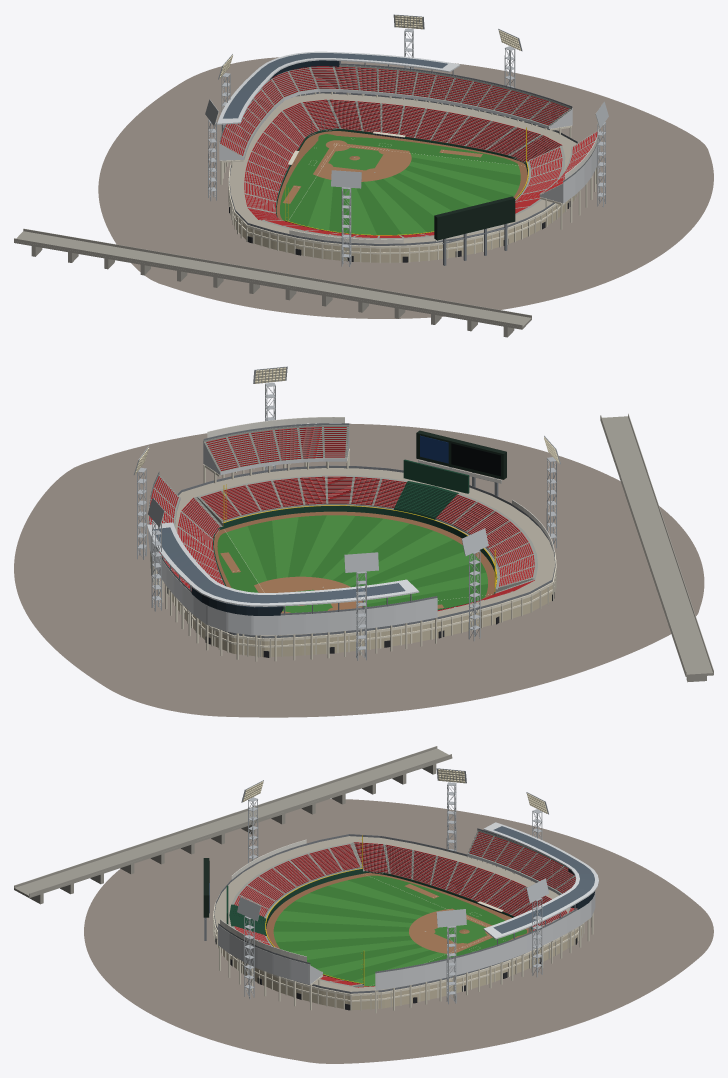
File: hiroshima.obj
The picture shows the model from 3 angles, top to bottom: view 1: azimuth 30°, elevation 25°; view 2: azimuth 150°, elevation 25°; view 3: azimuth 270°, elevation 25°; orthographic projection. The views are drawn at different scales.
Parts seen in each view (by area): view 1: ground_apron, stand_first, railway_viaduct, turf_base, stand_backstop, turf_stripes, stand_outfield_right, concourse, light_towers, stand_third, outer_wall_outfield, scoreboard (+11 smaller); view 2: ground_apron, stand_outfield_right, stand_outfield_left, turf_base, railway_viaduct, turf_stripes, light_towers, concourse, scoreboard, outer_wall_infield, stand_first, main_roof_panels (+10 smaller); view 3: ground_apron, railway_viaduct, turf_base, stand_outfield_right, stand_third, turf_stripes, light_towers, stand_outfield_left, concourse, outer_wall_infield, main_roof_panels, stand_backstop (+12 smaller).
Part boxes in pixels (x1,y1,x2,y2): ground_apron: (98,57,713,318); stand_first: (361,69,571,162); railway_viaduct: (14,228,531,337); turf_base: (280,134,520,234); stand_backstop: (243,65,398,146); turf_stripes: (307,153,520,234); stand_outfield_right: (299,89,599,229); concourse: (229,93,576,245); light_towers: (205,14,608,266); stand_third: (219,117,299,220); outer_wall_outfield: (250,194,576,262); scoreboard: (289,128,599,265); ground_apron: (14,423,704,717); stand_outfield_right: (148,425,407,655); stand_outfield_left: (226,493,537,661); turf_base: (217,515,487,609); railway_viaduct: (600,413,713,682); turf_stripes: (226,515,487,603); light_towers: (133,366,560,660); concourse: (175,468,555,638); scoreboard: (207,417,554,555); outer_wall_infield: (169,584,552,656); stand_first: (148,473,224,585); main_roof_panels: (153,527,405,603); ground_apron: (84,799,713,1063); railway_viaduct: (14,746,452,904); turf_base: (273,875,526,986); stand_outfield_right: (218,891,595,1013); stand_third: (351,830,536,914); turf_stripes: (273,880,445,986); light_towers: (237,768,548,1004); stand_outfield_left: (231,843,591,927); concourse: (214,836,569,993); outer_wall_infield: (347,925,583,1010); main_roof_panels: (493,826,594,933); stand_backstop: (509,851,591,930).
Size of the model in its own units: 373 by 54.75 by 365.
